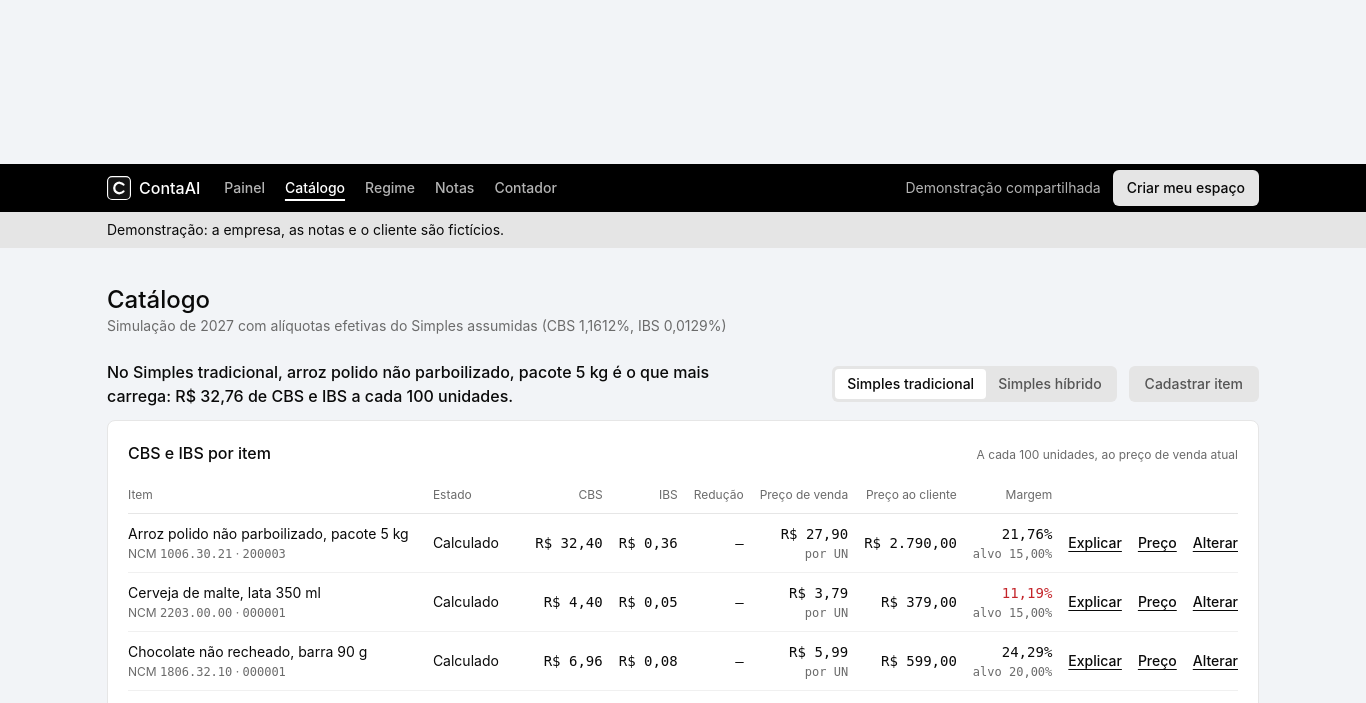
it: Catálogo › troca de regime refaz o cálculo nos motores e muda o achado
This screenshot has width=1366, height=703.
(page scrolled)
Expected: the text "No Simples tradicional, arroz polido não parboilizado, pacote 5 kg é o que mais carrega" is shown, left=107, top=362, right=709, bottom=406
Click the button "Simples híbrido". click: click(1050, 384)
box: left=986, top=369, right=1114, bottom=399
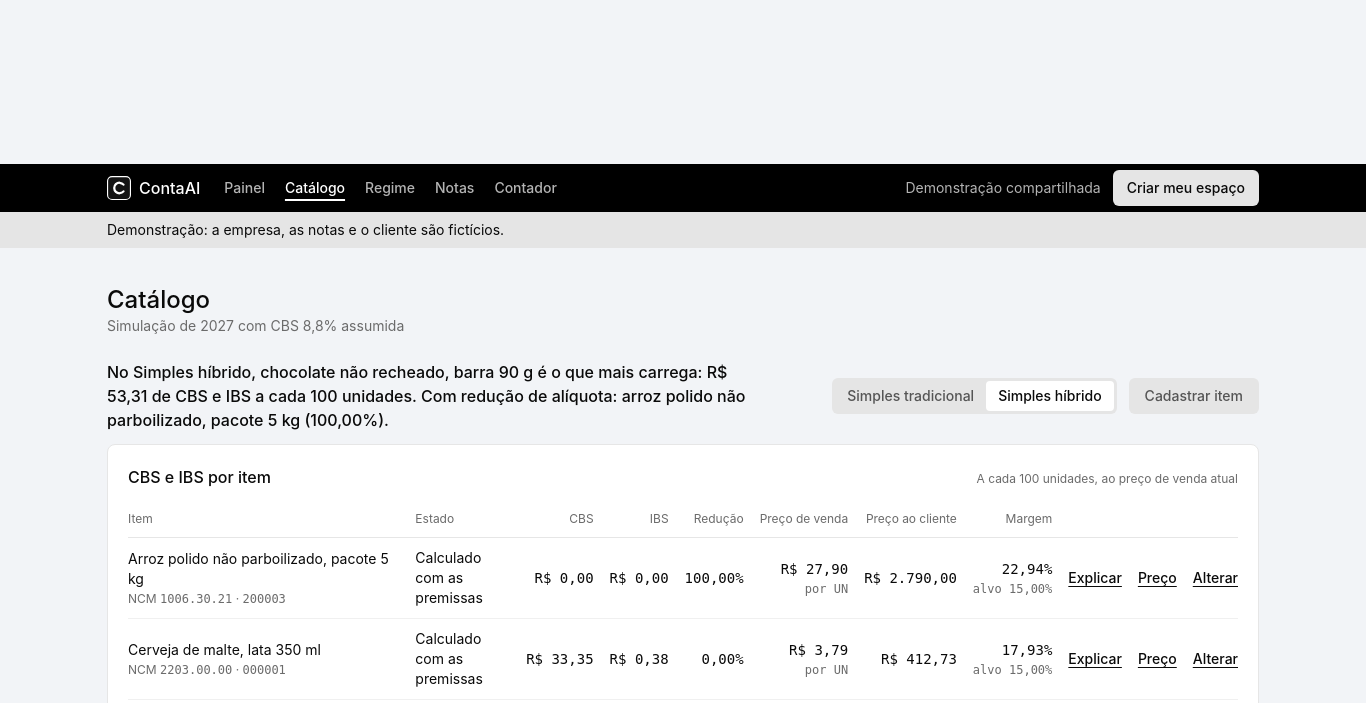
Expected: the text "Com redução de alíquota: arroz polido não parboilizado, pacote 5 kg (100,00%)" is shown, left=107, top=362, right=746, bottom=430
